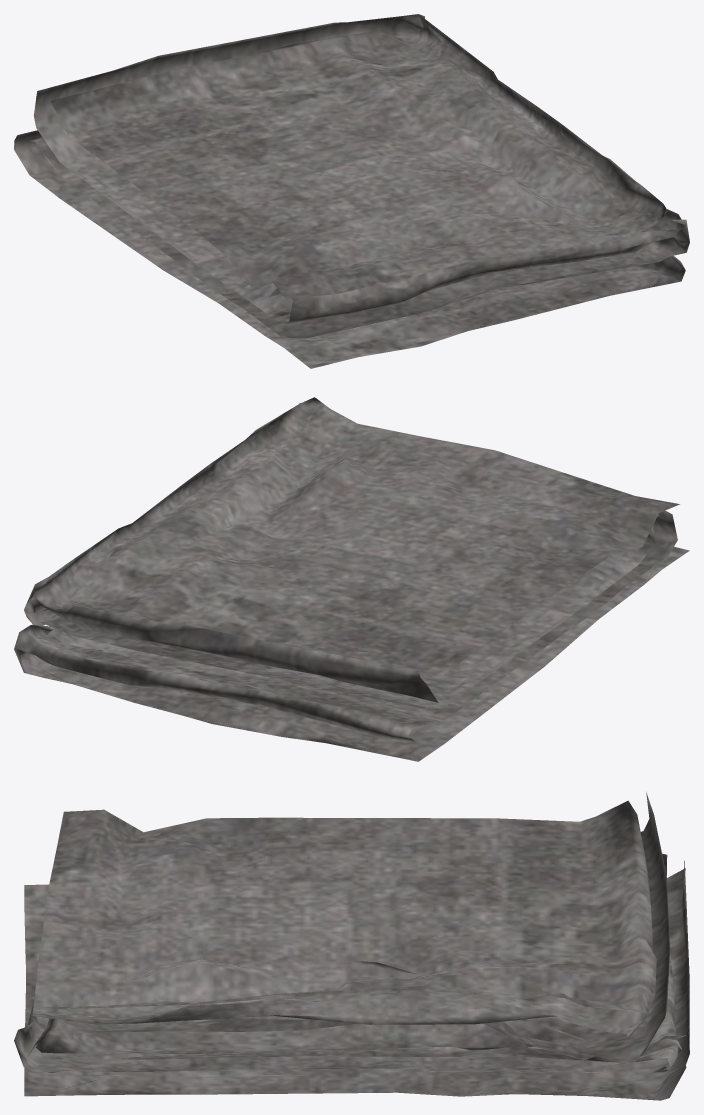
Rendered from hvfold_Plaid_007.glb.
The picture shows the model from 3 angles, top to bottom: view 1: azimuth 30°, elevation 25°; view 2: azimuth 150°, elevation 25°; view 3: azimuth 270°, elevation 25°; orthographic projection. The views are drawn at different scales.
Visible parts, largest first — view 1: BP_Plaid_007; view 2: BP_Plaid_007; view 3: BP_Plaid_007.
Boxes of the visible parts, left/top/right/bottom form: BP_Plaid_007: left=14, top=14, right=689, bottom=368; BP_Plaid_007: left=14, top=397, right=689, bottom=761; BP_Plaid_007: left=14, top=792, right=689, bottom=1100.
Size of the model in its own units: 0.3781 by 0.0877 by 0.4906.
1 material, 1 textured.
